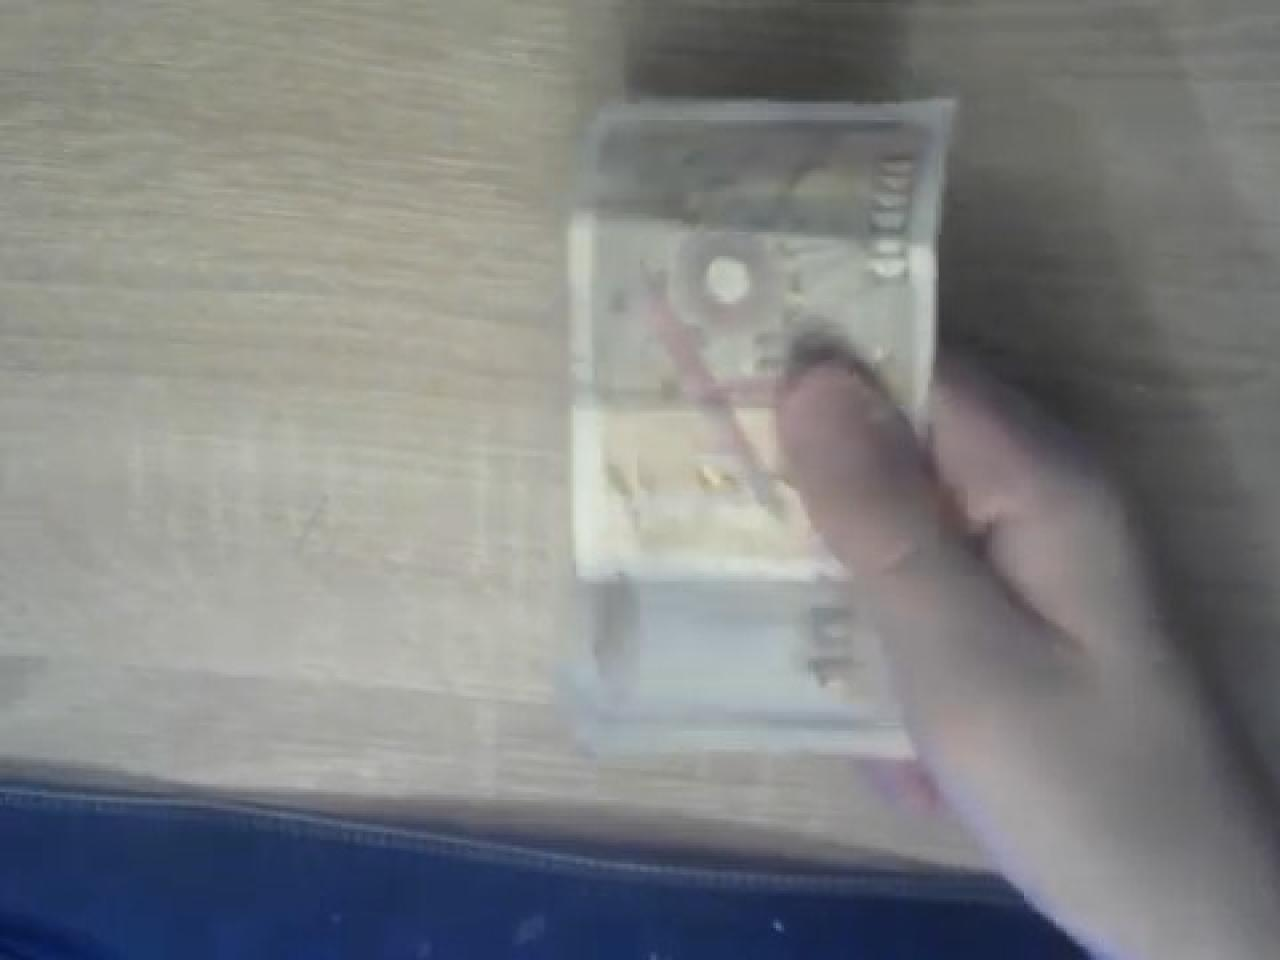10leva: (560, 94, 959, 757)
